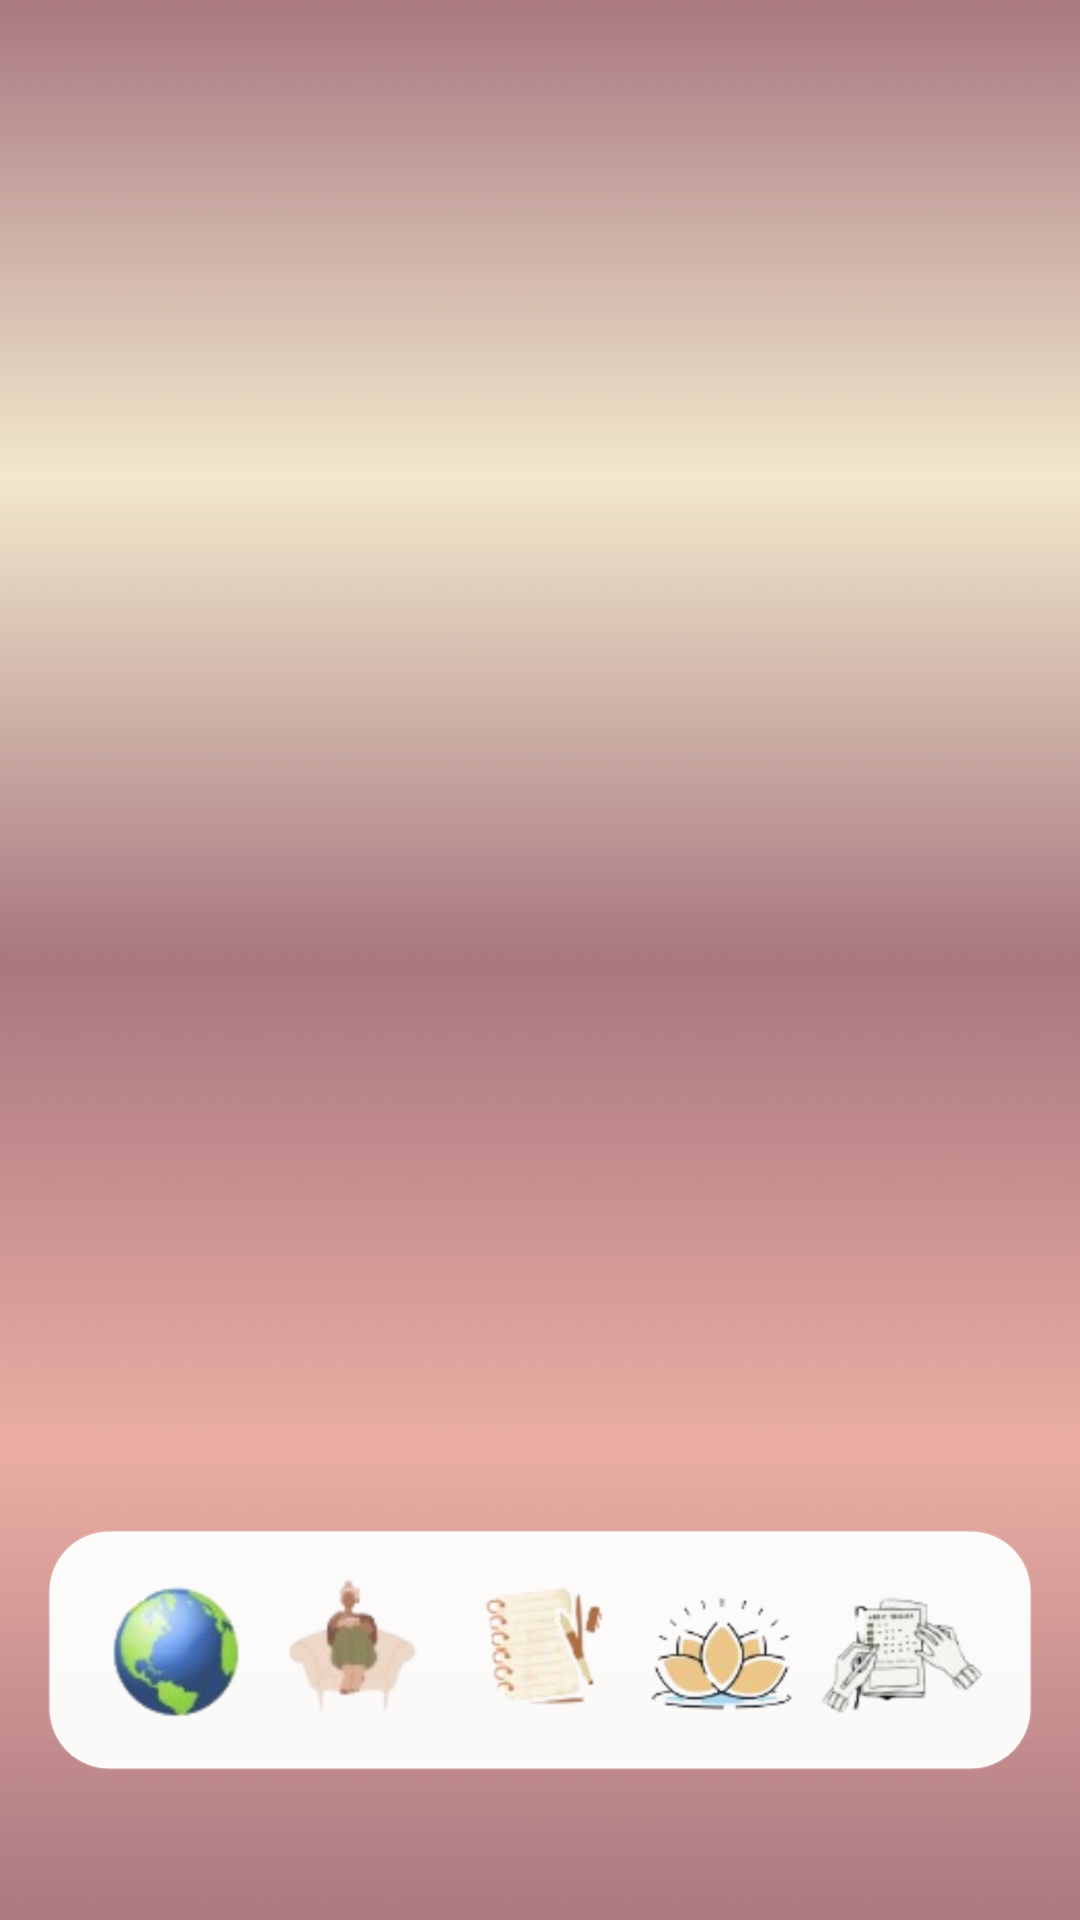

Screen size 1080x1920. Icon name, then its center in pixels as point (x, y):
divertissement: point (352, 1644)
journal: point (544, 1646)
travels: point (176, 1651)
